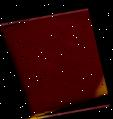scratch: (0, 2, 112, 119)
